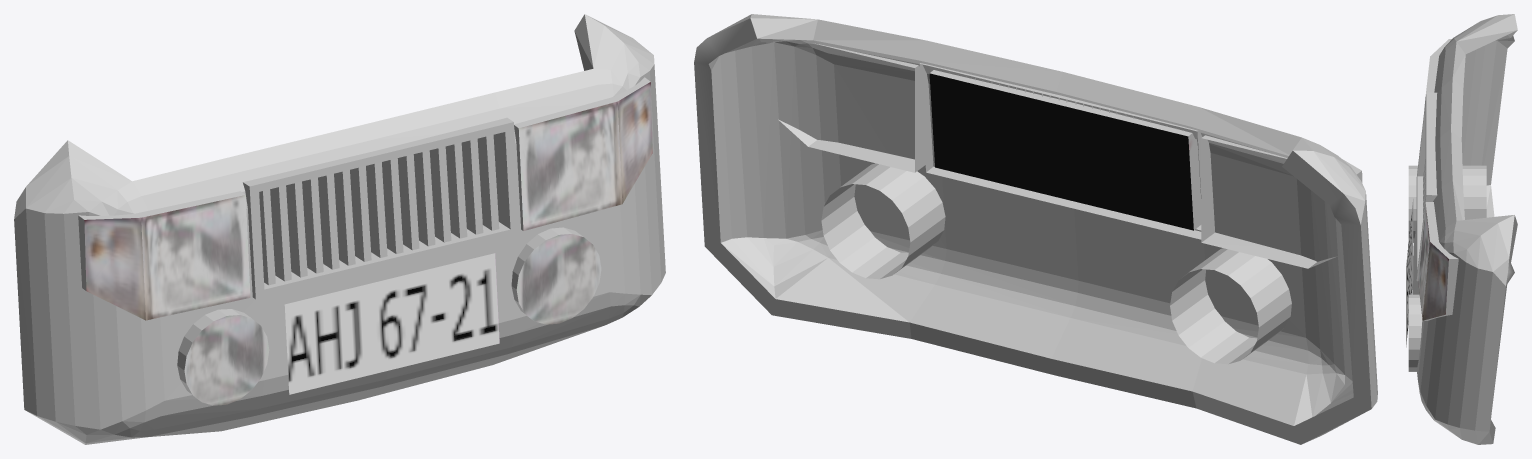
3 renders of one model, left to right at view 1: azimuth 30°, elevation 25°; view 2: azimuth 150°, elevation 25°; view 3: azimuth 270°, elevation 25°, orthographic. The views are drawn at different scales.
Parts seen in each view (by area): view 1: predni_maska; view 2: predni_maska; view 3: predni_maska.
Boxes of the visible parts, x1,y1,x2,y2 form: predni_maska: (14,14,665,444); predni_maska: (694,14,1377,444); predni_maska: (1406,14,1517,444).
Size of the model in its own units: 1.42 by 0.6429 by 0.2722.
1 material, 1 textured.
